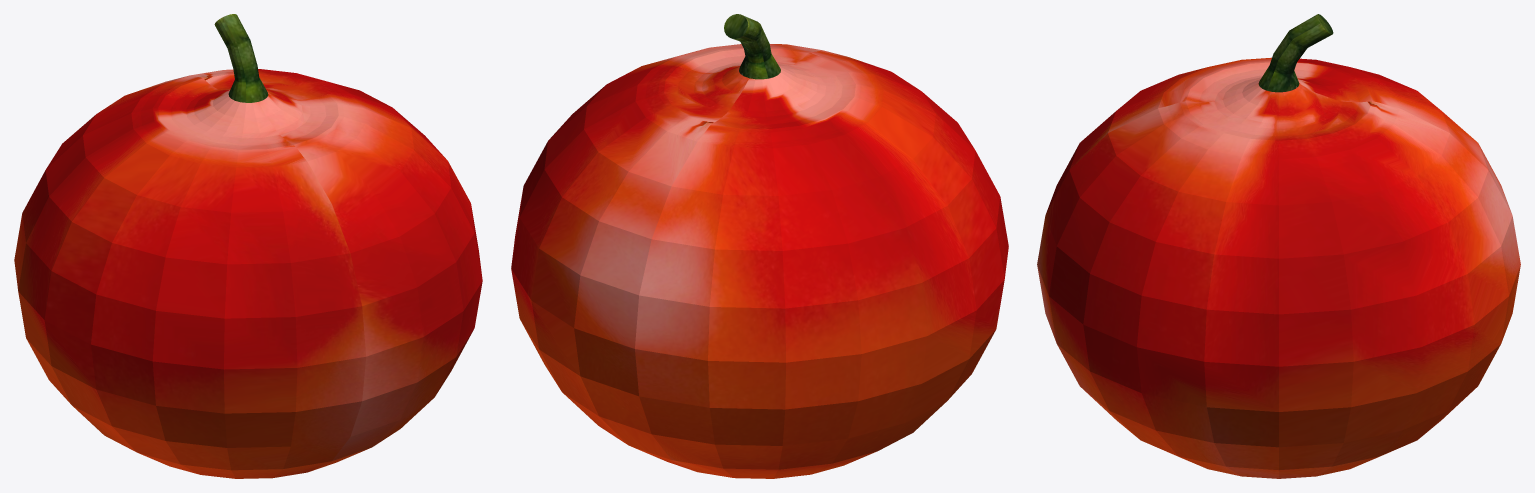
Rendered from tomat.fbx.
3 renders of one model, left to right at view 1: azimuth 30°, elevation 25°; view 2: azimuth 150°, elevation 25°; view 3: azimuth 270°, elevation 25°, orthographic. The views are drawn at different scales.
Visible parts, largest first — view 1: tomat; view 2: tomat; view 3: tomat.
Boxes of the visible parts, box(x1,y1,x2,y2) form: tomat: box(14, 14, 482, 478); tomat: box(511, 14, 1008, 478); tomat: box(1037, 14, 1520, 478).
Bounding box in the file's own units: 200 × 200 × 200.
